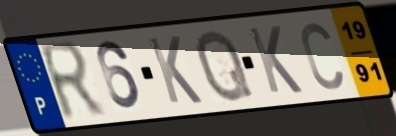6: (93, 38, 145, 114)
C: (298, 19, 346, 93)
K: (145, 34, 206, 107), (245, 24, 306, 96)
Q: (193, 27, 257, 105)
R: (35, 38, 110, 126)
